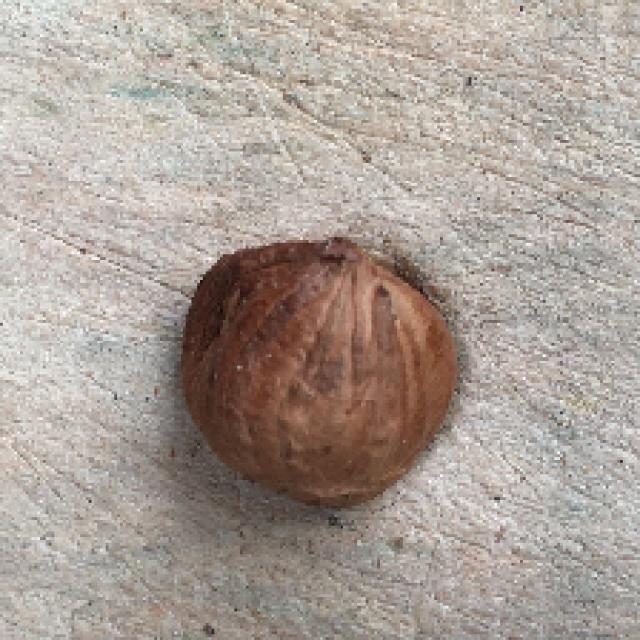hazelnut: (157, 225, 469, 523)
